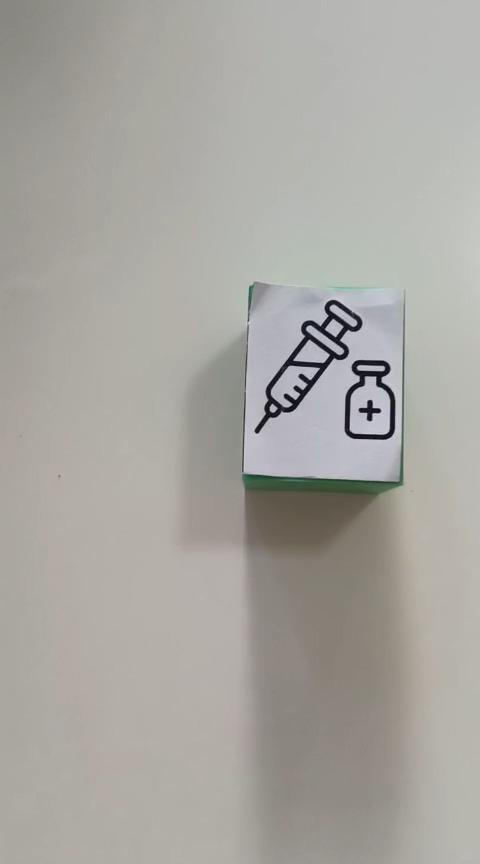antiseptic cream: (240, 280, 405, 490)
